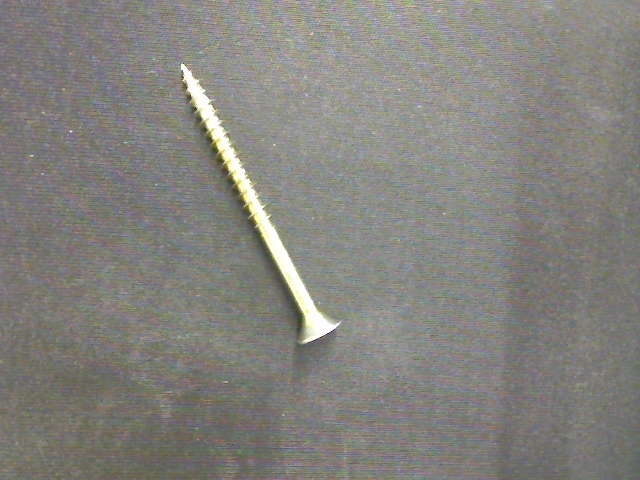screw: (179, 62, 342, 346)
